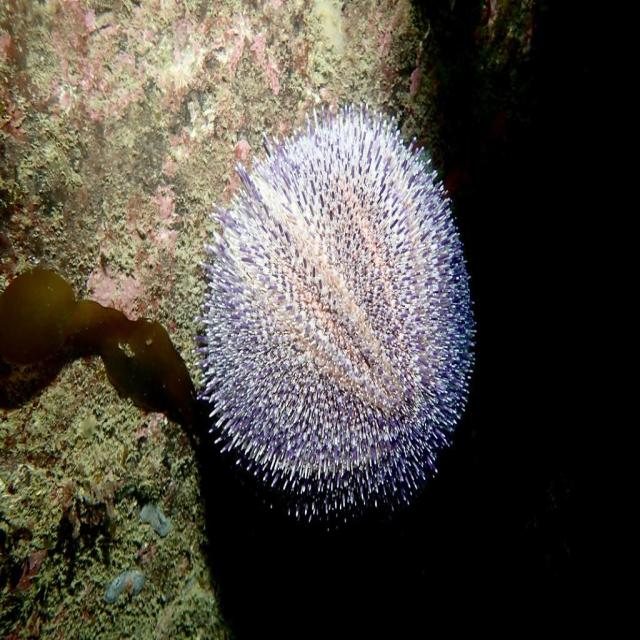Deniz Kestanesi: (196, 102, 476, 530)
